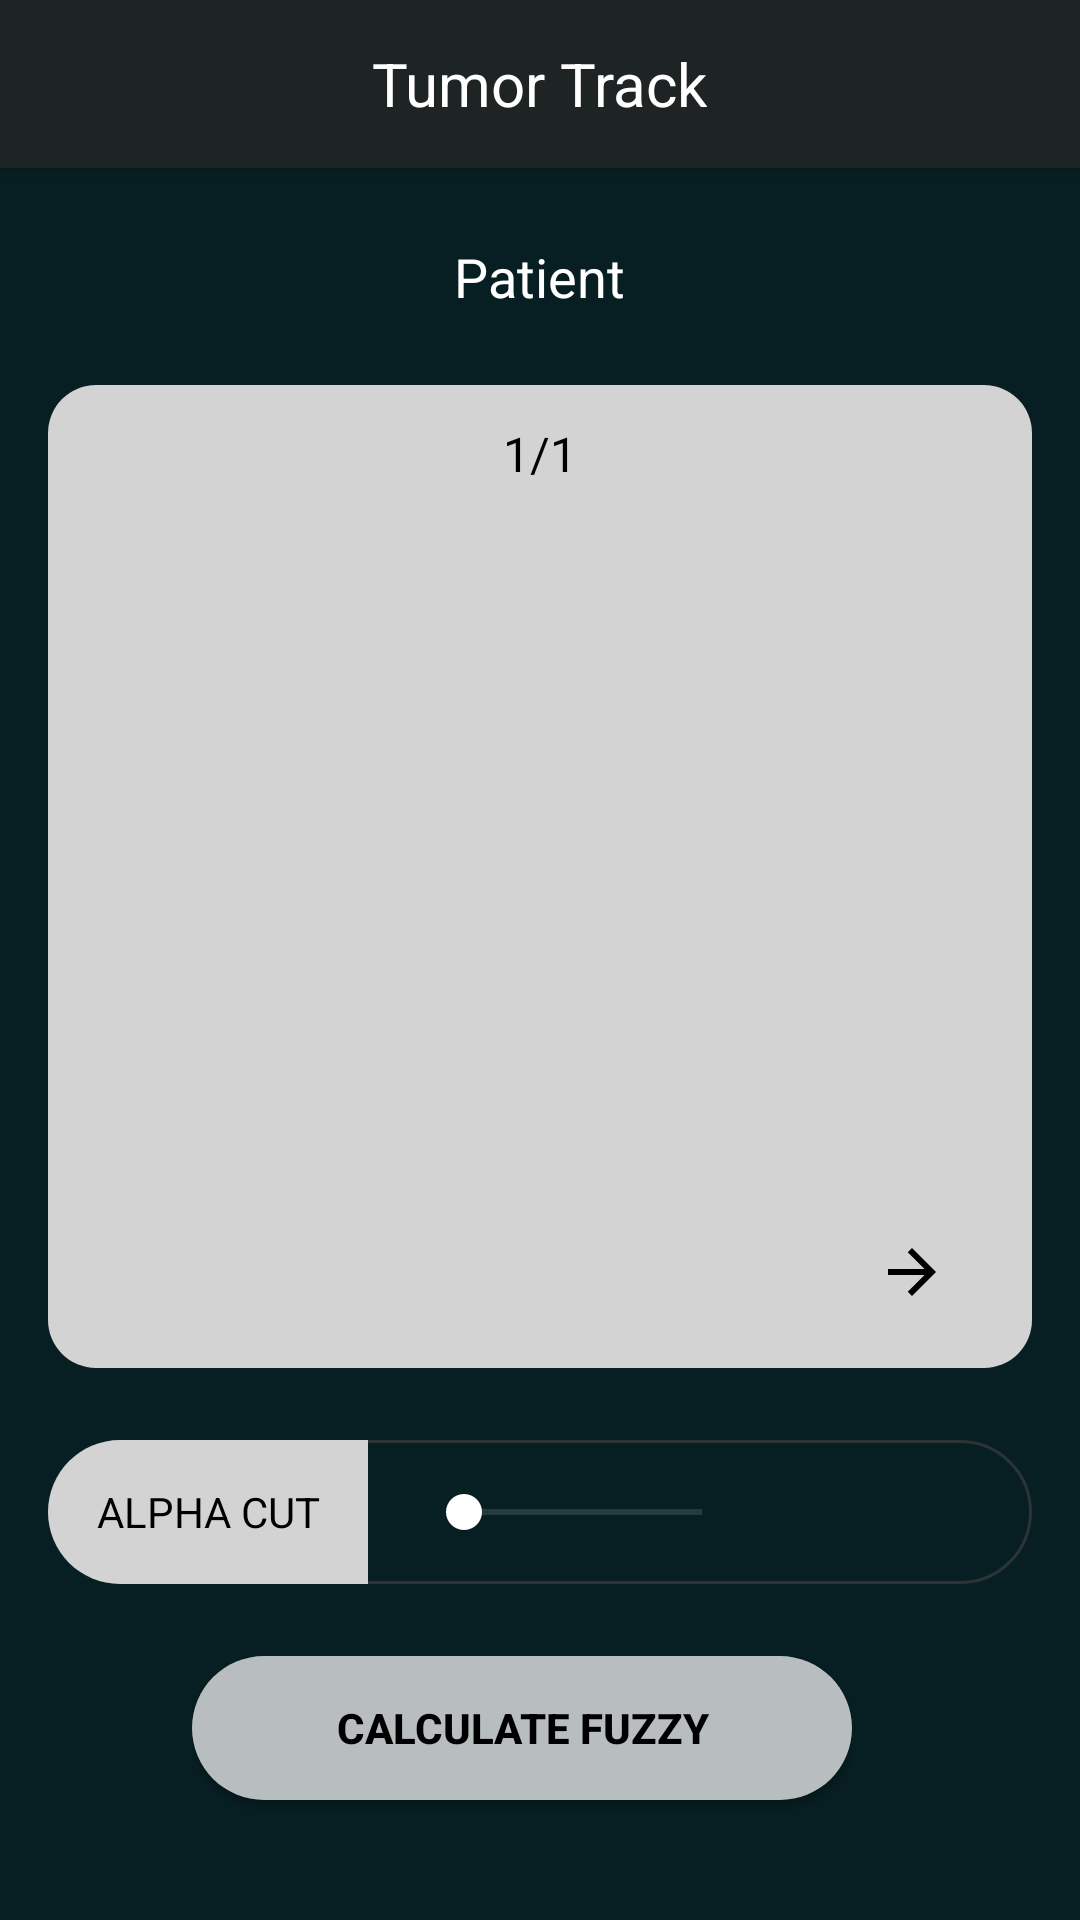

Locate icon controls on the screen. Image size 1080 x 1920, boxes as (x1, y1, x2, y2).
right arrow: (888, 1248, 936, 1296)
